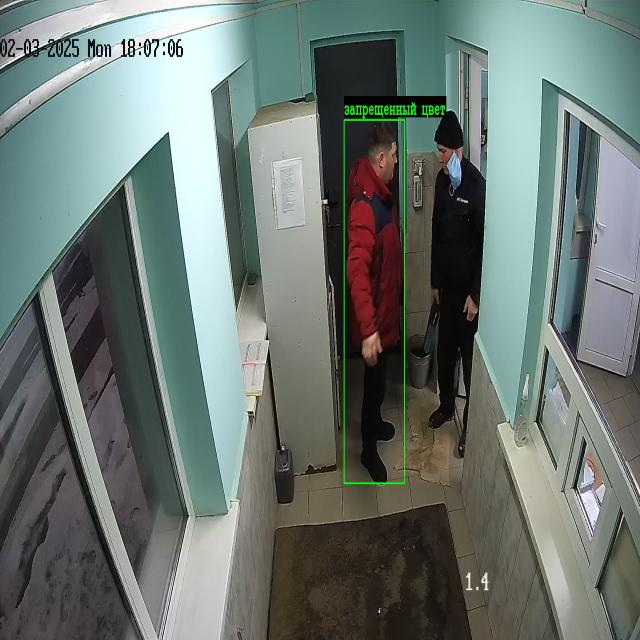Person: (429, 111, 486, 457)
Red uniform: (345, 122, 403, 482)
